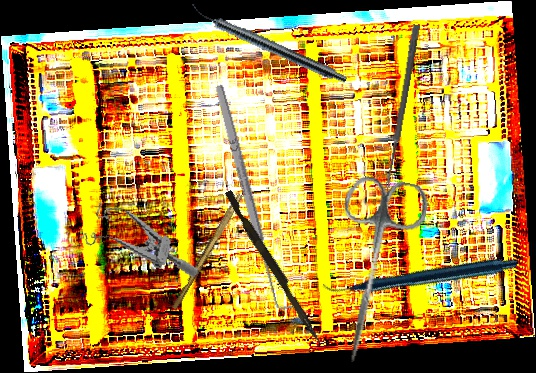Handpiece: (321, 185, 520, 363), (187, 1, 350, 87)
Hook Surgical: (210, 80, 295, 315)
Iris Scissors: (315, 171, 431, 371)
Pusher: (220, 189, 329, 347)
Scalpel Handle: (171, 191, 243, 312)
Speculum: (74, 198, 210, 279)
Surgical Spoon: (382, 24, 421, 192)
